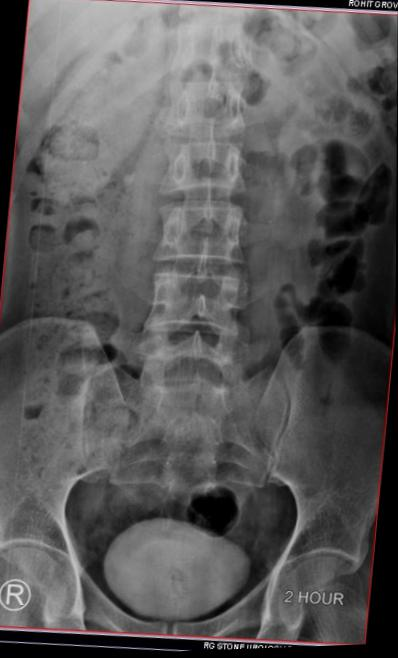bladder: (87, 507, 259, 643)
right kidney: (28, 0, 166, 219)
vertebrae: (159, 74, 249, 145)
